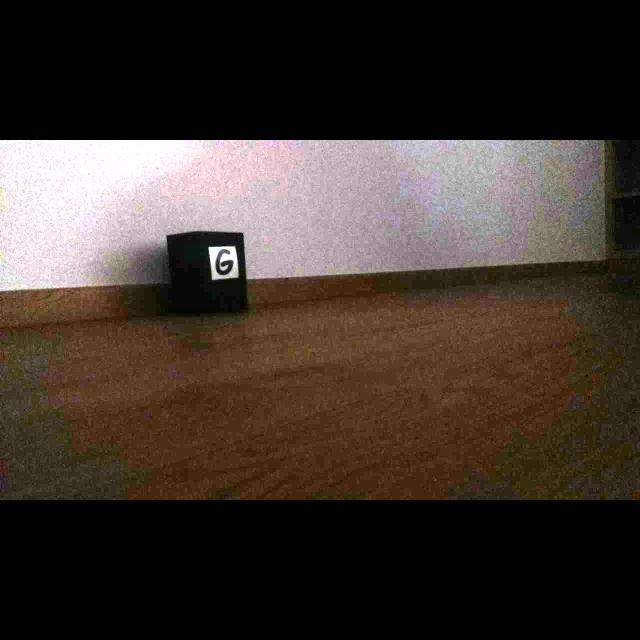G: (216, 249, 234, 275)
